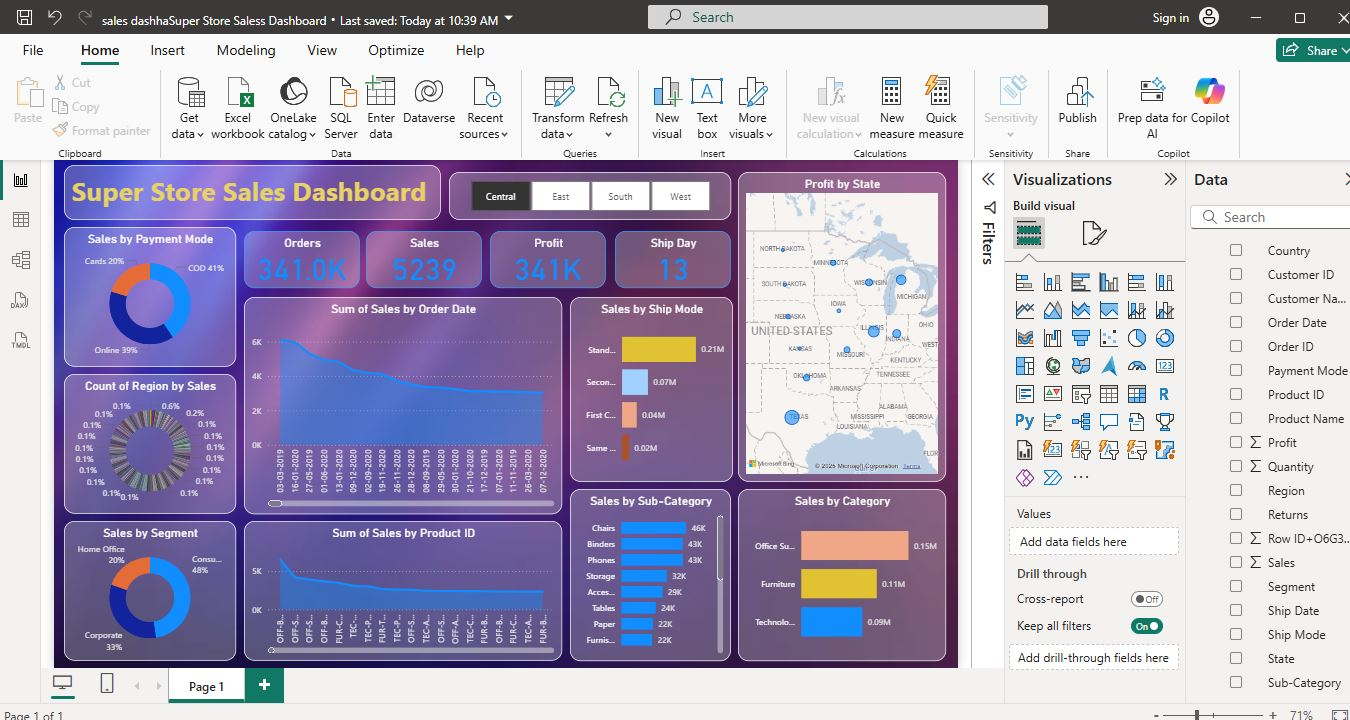

The dashboard page shown, as its layout file describes it:
{"tool":"powerbi","page":{"name":"Page 1","canvas":[1280,720],"ordinal":0},"visuals":[{"type":"clusteredBarChart","title":" Sales by Category","fields":{"Category":["SuperStore_Sales_Dataset.Category"],"Y":["Sum(SuperStore_Sales_Dataset.Sales)"]},"box":[969.4,466.3,294.8,243.8],"z":0},{"type":"clusteredBarChart","title":"Sales by Sub-Category","fields":{"Category":["SuperStore_Sales_Dataset.Sub-Category","SuperStore_Sales_Dataset.Category"],"Y":["Sum(SuperStore_Sales_Dataset.Sales)"]},"box":[731.3,466.3,228.2,243.8],"z":1000},{"type":"clusteredBarChart","title":" Sales by Ship Mode","fields":{"Y":["Sum(SuperStore_Sales_Dataset.Sales)"],"Category":["SuperStore_Sales_Dataset.Ship Mode"]},"box":[731.3,194.2,231,262.2],"z":2000},{"type":"map","title":"Profit by State","fields":{"Category":["SuperStore_Sales_Dataset.State"],"Size":["Sum(SuperStore_Sales_Dataset.Sales)"]},"box":[969.4,17,294.8,439.4],"z":3000},{"type":"donutChart","title":"Sales by Segment","fields":{"Category":["SuperStore_Sales_Dataset.Segment"],"Y":["Sum(SuperStore_Sales_Dataset.Sales)"]},"box":[14.2,511.7,243.8,198.4],"z":4000},{"type":"slicer","fields":{"Values":["SuperStore_Sales_Dataset.Region"]},"box":[559.8,17,399.7,68],"z":5000},{"type":"card","title":"sales","fields":{"Values":["Sum(SuperStore_Sales_Dataset.Sales)"]},"box":[355.7,100.6,164.4,80.8],"z":6000},{"type":"card","title":"sales","fields":{"Values":["Avg(SuperStore_Sales_Dataset.AvyDelivery)"]},"box":[824.9,100.6,134.6,80.8],"z":7000},{"type":"card","title":"sales","fields":{"Values":["Sum(SuperStore_Sales_Dataset.Quantity)"]},"box":[530.1,100.6,134.6,80.8],"z":8000},{"type":"card","title":"sales","fields":{"Values":["Sum(SuperStore_Sales_Dataset.Sales)"]},"box":[680.3,100.6,134.6,80.8],"z":9000},{"type":"donutChart","title":"Sales by Payment Mode","fields":{"Category":["SuperStore_Sales_Dataset.Payment Mode"],"Y":["Sum(SuperStore_Sales_Dataset.Sales)"]},"box":[14.2,95,243.8,198.4],"z":10000},{"type":"textbox","box":[14.2,7.1,534.3,78],"z":11000},{"type":"areaChart","fields":{"Category":["SuperStore_Sales_Dataset.Order Date"],"Y":["Sum(SuperStore_Sales_Dataset.Sales)"]},"box":[269.3,194.2,450.7,307.6],"z":12000},{"type":"donutChart","fields":{"Category":["SuperStore_Sales_Dataset.Sales"],"Y":["CountNonNull(SuperStore_Sales_Dataset.Region)"]},"box":[14.2,303.3,243.8,198.4],"z":13000},{"type":"areaChart","fields":{"Y":["Sum(SuperStore_Sales_Dataset.Sales)"],"Category":["SuperStore_Sales_Dataset.Product ID"]},"box":[269.3,511.7,450.7,198.4],"z":14000}]}

Visuals, with their boxes on the page's 1280x720 design canvas (x1, y1, x2, y2). These are canvas units, not pixel positions in the 1350x720 screenshot, which may show the page scaled, cropped or inside an application window:
" Sales by Category" clusteredBarChart: 969,466,1264,710
"Sales by Sub-Category" clusteredBarChart: 731,466,960,710
" Sales by Ship Mode" clusteredBarChart: 731,194,962,456
"Profit by State" map: 969,17,1264,456
"Sales by Segment" donutChart: 14,512,258,710
slicer - SuperStore_Sales_Dataset.Region: 560,17,960,85
"sales" card: 356,101,520,181
"sales" card: 825,101,960,181
"sales" card: 530,101,665,181
"sales" card: 680,101,815,181
"Sales by Payment Mode" donutChart: 14,95,258,293
textbox: 14,7,548,85
areaChart - SuperStore_Sales_Dataset.Order Date x Sum(SuperStore_Sales_Dataset.Sales): 269,194,720,502
donutChart - SuperStore_Sales_Dataset.Sales x CountNonNull(SuperStore_Sales_Dataset.Region): 14,303,258,502
areaChart - Sum(SuperStore_Sales_Dataset.Sales) x SuperStore_Sales_Dataset.Product ID: 269,512,720,710
